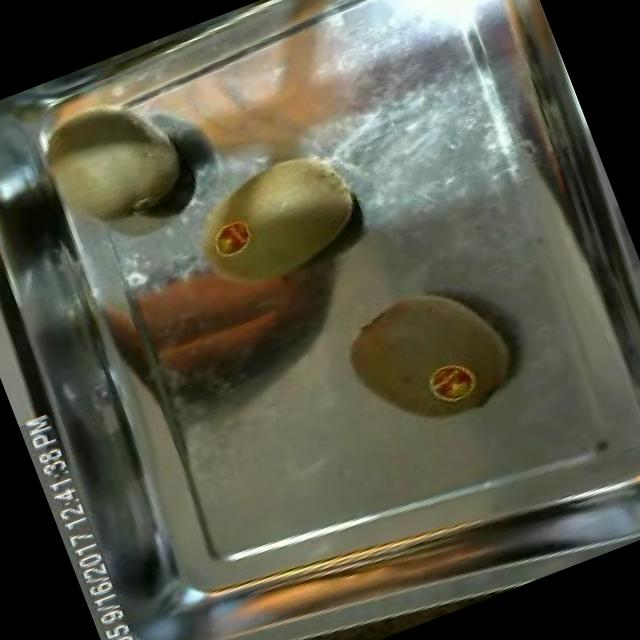Fruit: (12, 44, 215, 260), (328, 256, 536, 452), (182, 128, 384, 306)
